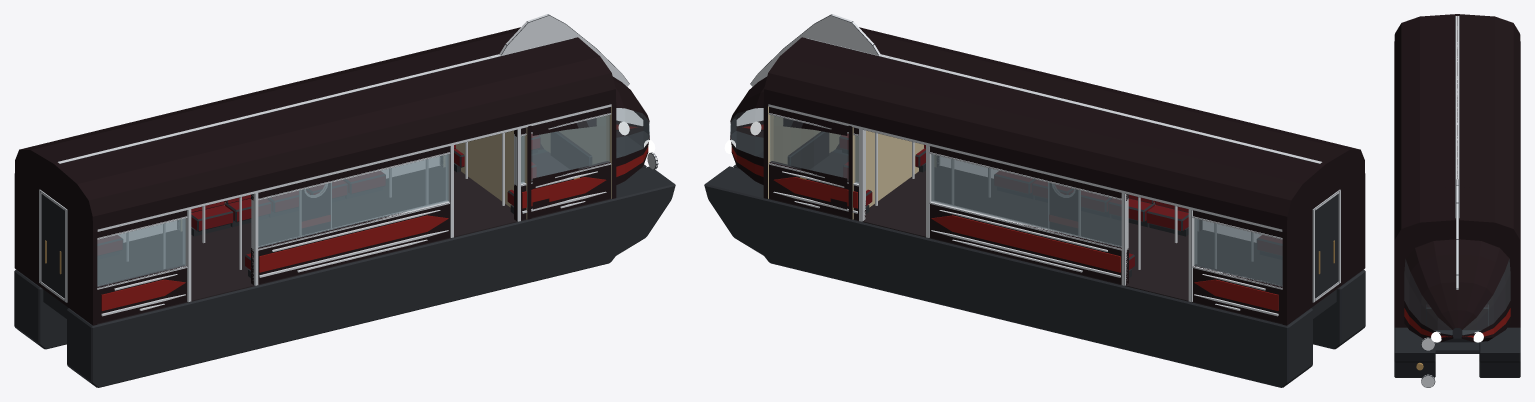
File: monorail_cars.4960befb.glb
3 renders of one model, left to right at view 1: azimuth 30°, elevation 25°; view 2: azimuth 150°, elevation 25°; view 3: azimuth 270°, elevation 25°, orthographic. The views are drawn at different scales.
Parts seen in each view (by area): view 1: car_end, car_mid, door; view 2: car_end, car_mid, door; view 3: car_end, car_mid.
Part boxes in pixels (<box>): car_end: <box>14,14,675,387</box>; car_mid: <box>14,27,616,387</box>; door: <box>299,183,331,235</box>; car_end: <box>704,14,1365,387</box>; car_mid: <box>763,27,1365,387</box>; door: <box>1048,183,1080,235</box>; car_end: <box>1394,14,1520,387</box>; car_mid: <box>1394,17,1520,327</box>.
Size of what is drawn, in the model's own units: 14 by 5.1 by 3.2.
